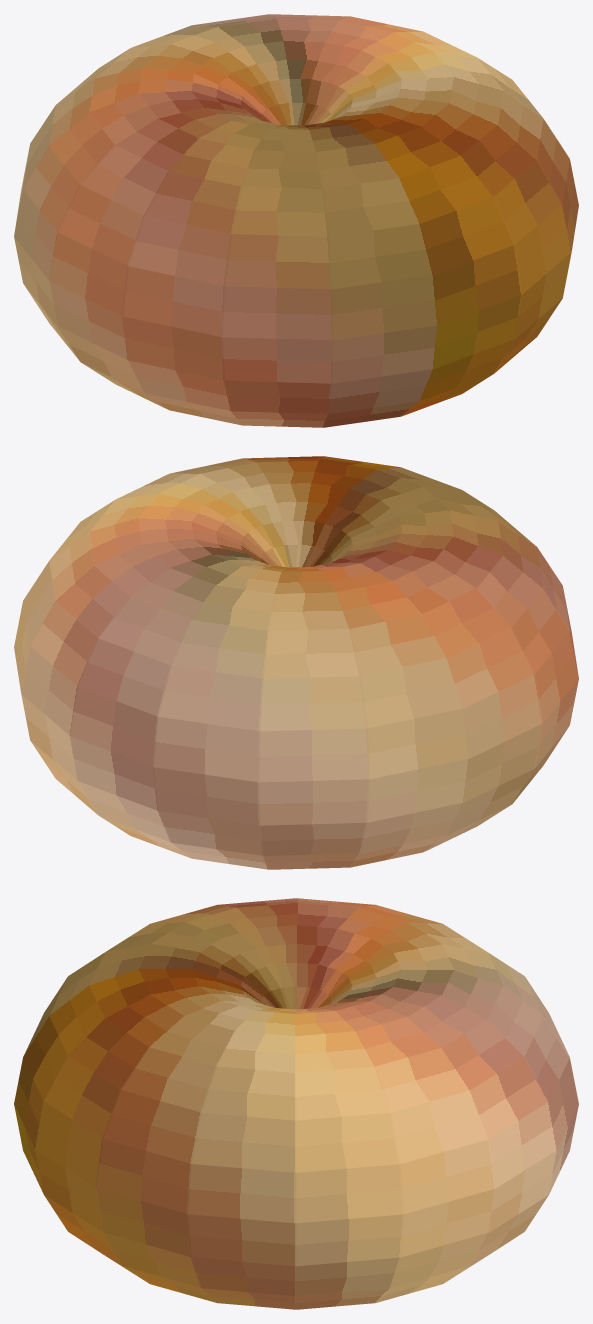
File: Explosion.gltf
3 views of the same model, one above another, from view 1: azimuth 30°, elevation 25°; view 2: azimuth 150°, elevation 25°; view 3: azimuth 270°, elevation 25° (orthographic).
Parts seen in each view (by area): view 1: Explosion; view 2: Explosion; view 3: Explosion.
Boxes of the visible parts, x1,y1,x2,y2 form: Explosion: [14, 14, 578, 427]; Explosion: [14, 456, 578, 869]; Explosion: [14, 898, 578, 1309].
Size of the model in its own units: 0.6 by 0.3151 by 0.6.
1 material, 1 textured.
